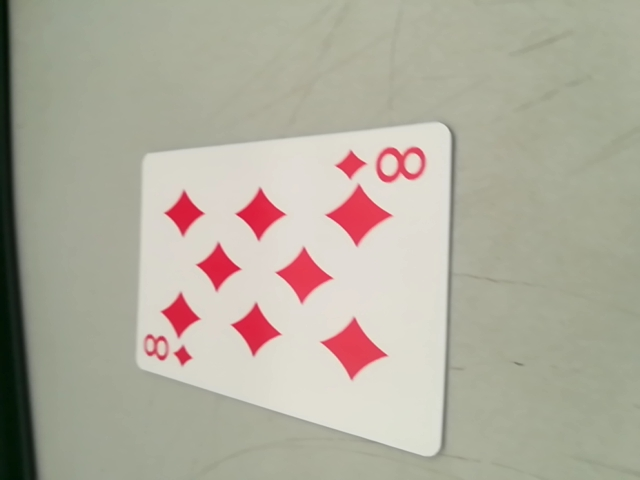fk 8: (338, 137, 430, 191), (138, 328, 197, 373)
